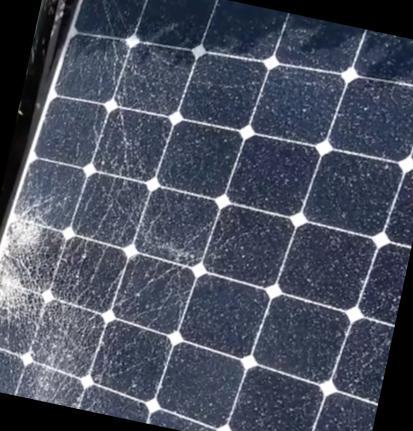Crack: (0, 255, 52, 329), (0, 198, 56, 259)
